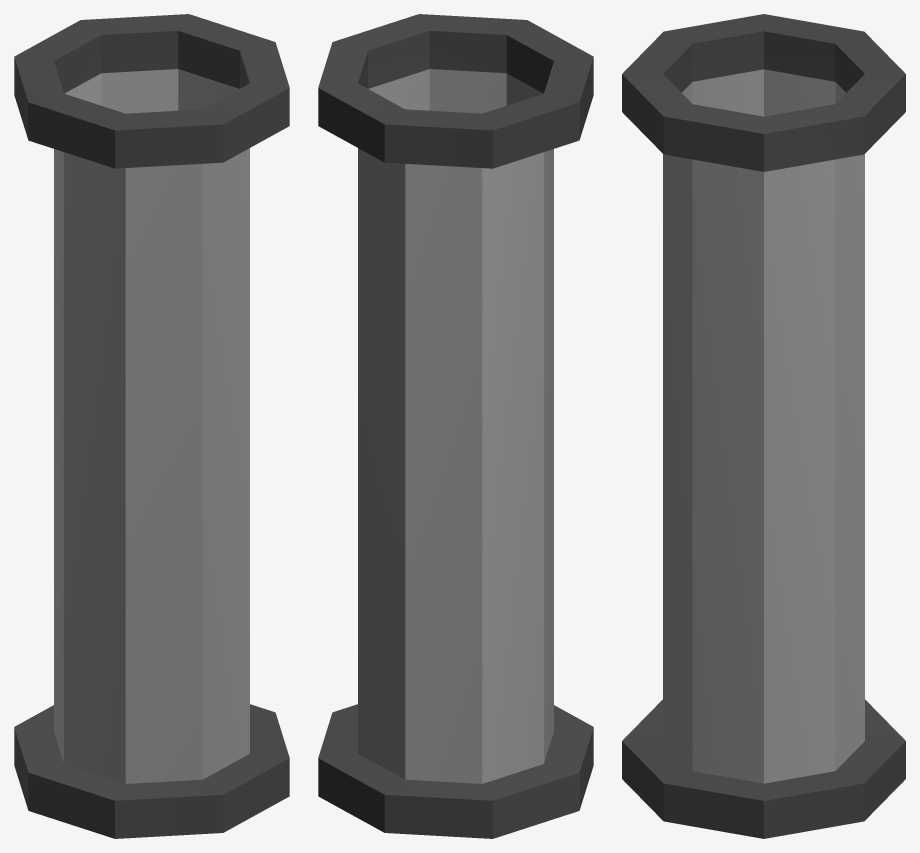
File: Pipe_big.fbx
3 renders of one model, left to right at view 1: azimuth 30°, elevation 25°; view 2: azimuth 150°, elevation 25°; view 3: azimuth 270°, elevation 25°, orthographic.
Parts seen in each view (by area): view 1: Pipe_big; view 2: Pipe_big; view 3: Pipe_big.
Part boxes in pixels (x1,y1,x2,y2): Pipe_big: (14,14,289,838); Pipe_big: (318,14,593,838); Pipe_big: (622,14,905,838).
Bounding box in the file's own units: 54.15 × 148 × 54.15.
